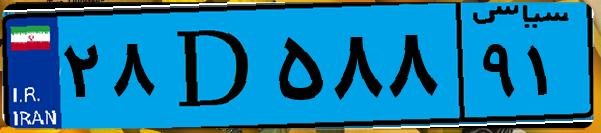1: (525, 38, 570, 115)
2: (57, 26, 110, 100)
5: (270, 28, 330, 110)
8: (385, 28, 445, 110), (330, 28, 385, 110), (110, 28, 158, 98)
9: (475, 38, 525, 113)
D: (158, 12, 270, 120)
